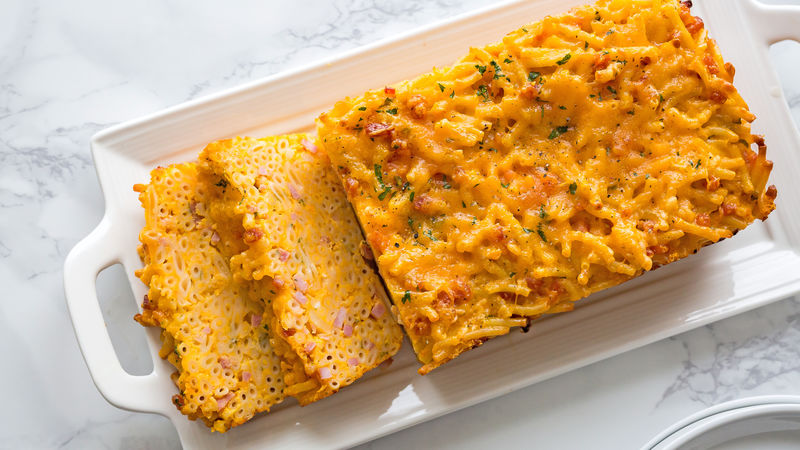macncheese: (425, 92, 738, 333)
